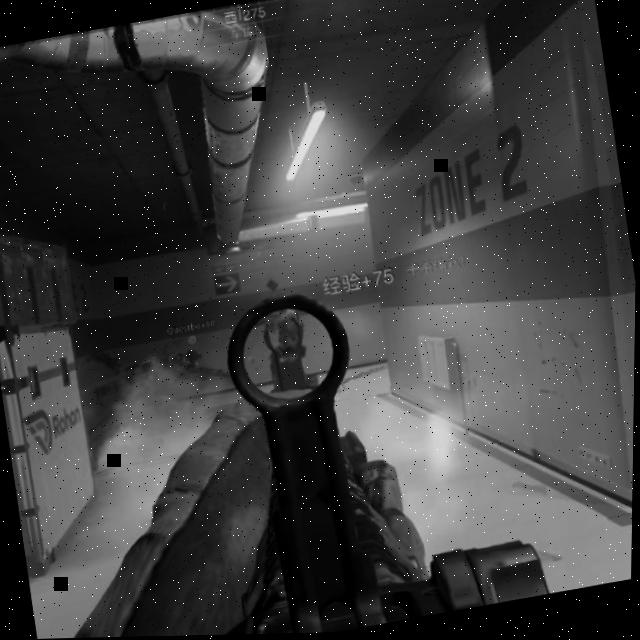MW2_body: (258, 277, 304, 355)
